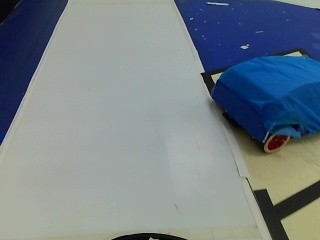car: (207, 52, 318, 155)
